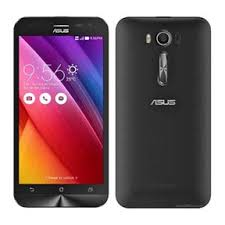asus: (111, 12, 216, 212), (10, 13, 111, 208)
